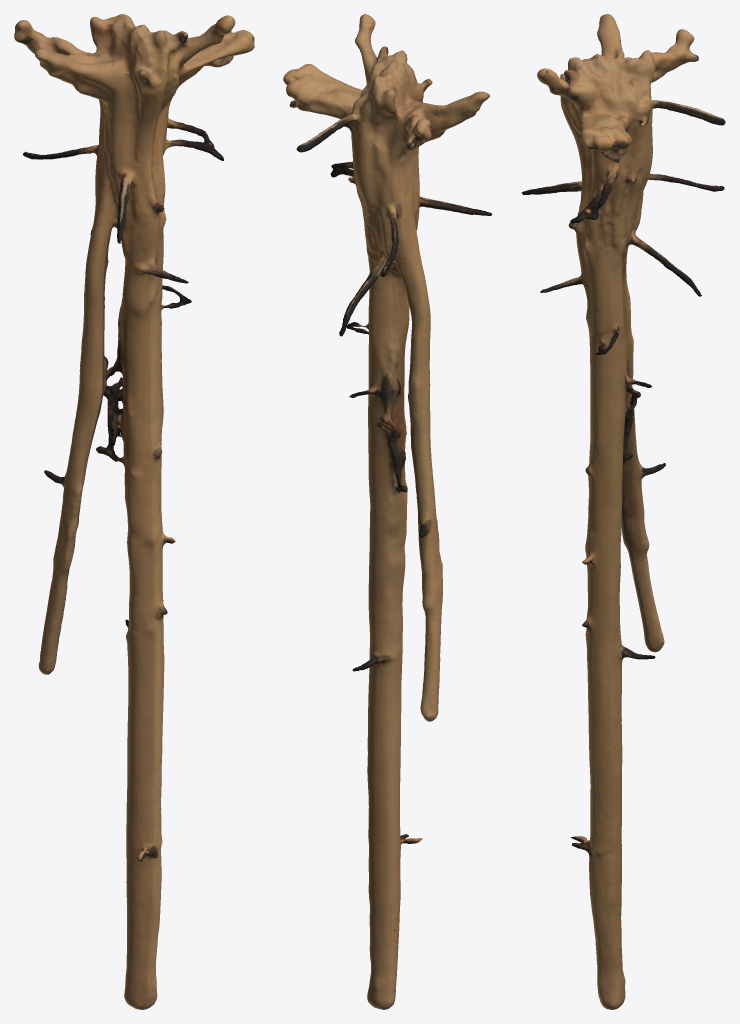
The model's file is asa_efes.glb.
3 views of the same model, side by side, from view 1: azimuth 30°, elevation 25°; view 2: azimuth 150°, elevation 25°; view 3: azimuth 270°, elevation 25° (orthographic). The views are drawn at different scales.
Size of the model in its own units: 0.4478 by 2 by 0.3853.
1 material, 1 textured.
